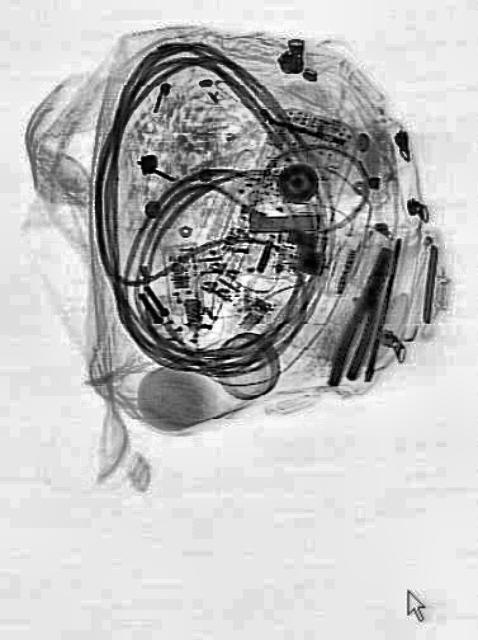Pliers: (325, 241, 398, 395)
